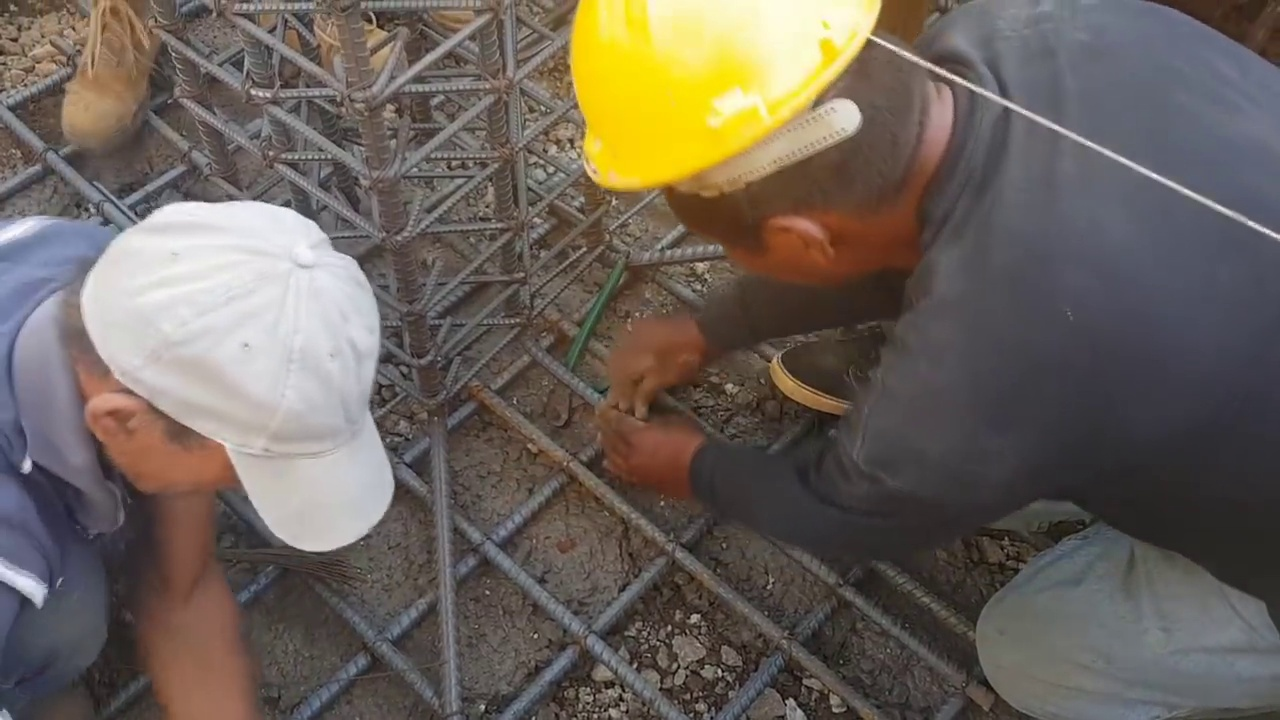helmet: (563, 4, 891, 212)
helmet-off: (55, 197, 386, 533)
helmet-on: (572, 0, 993, 289)
person: (571, 0, 1273, 692), (0, 208, 400, 716)
